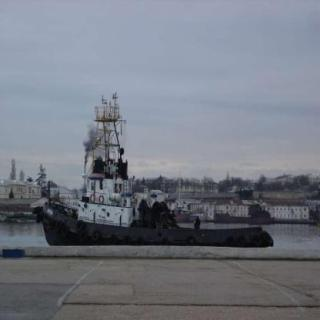Tug Boat: (31, 80, 282, 248)
